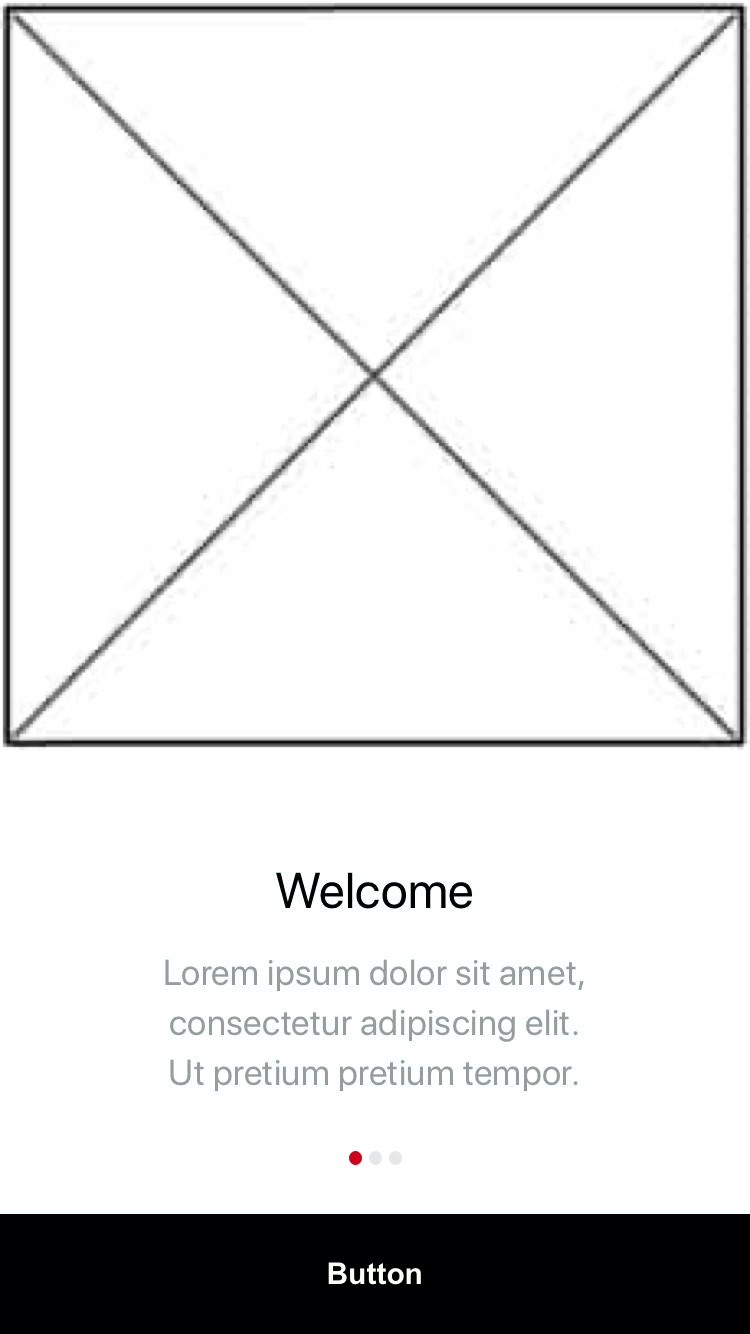Image: (1, 1, 750, 749)
PageIndicator: (349, 1150, 404, 1166)
Text: (163, 959, 589, 1092), (275, 872, 473, 910)
TextButton: (1, 1214, 750, 1334)
